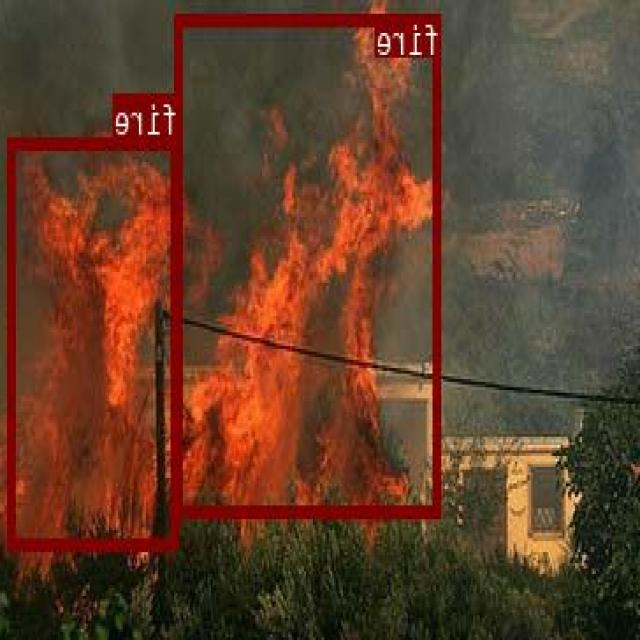fire: (176, 13, 442, 516), (9, 135, 180, 547)
